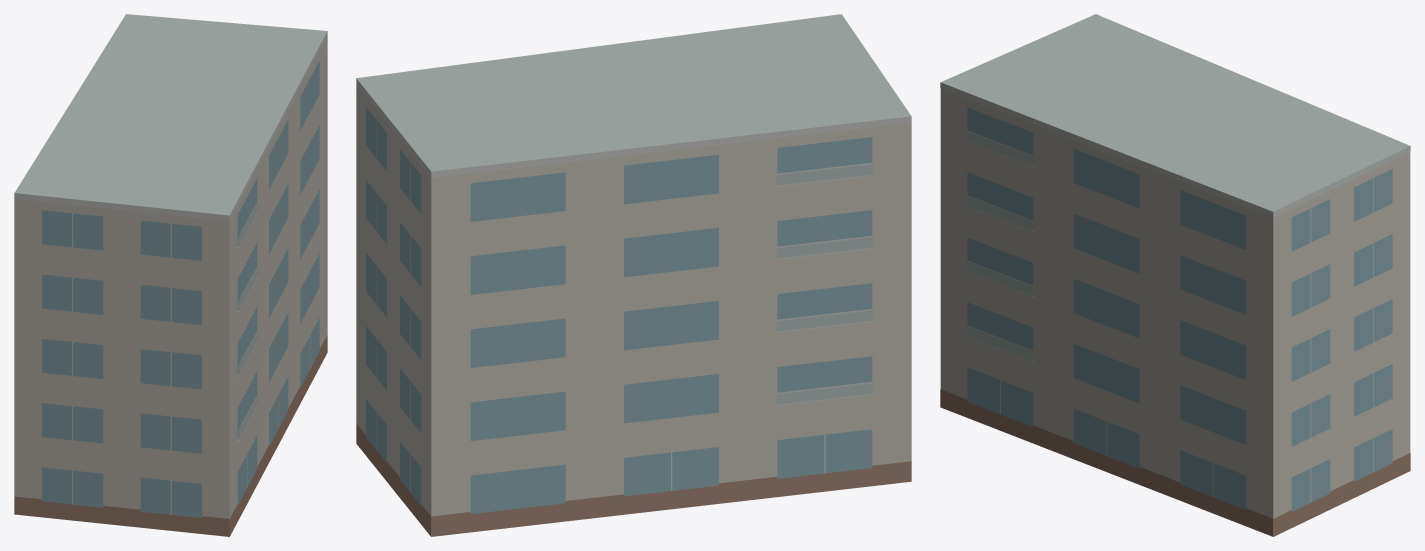
File: survey-upis-32731885.glb
3 renders of one model, left to right at view 1: azimuth 30°, elevation 25°; view 2: azimuth 150°, elevation 25°; view 3: azimuth 270°, elevation 25°, orthographic. The views are drawn at different scales.
Parts seen in each view (by area): view 1: survey-upis-32731885.tmp; view 2: survey-upis-32731885.tmp; view 3: survey-upis-32731885.tmp.
Part boxes in pixels (x1=…): survey-upis-32731885.tmp: x1=14, y1=14, x2=327, y2=536; survey-upis-32731885.tmp: x1=356, y1=14, x2=911, y2=536; survey-upis-32731885.tmp: x1=940, y1=14, x2=1410, y2=536.
Bounding box in the file's own units: 17.63 × 13.5 × 17.7.
